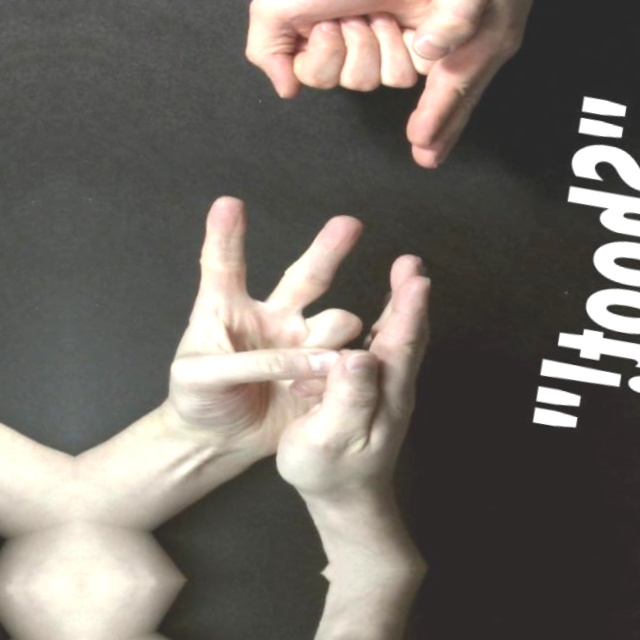Rock: (223, 0, 460, 138)
Scissors: (149, 180, 391, 482)
